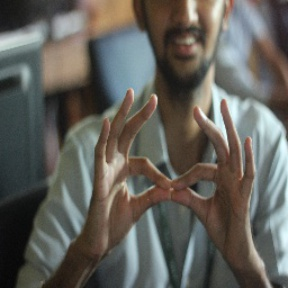B: (113, 134, 235, 234)
